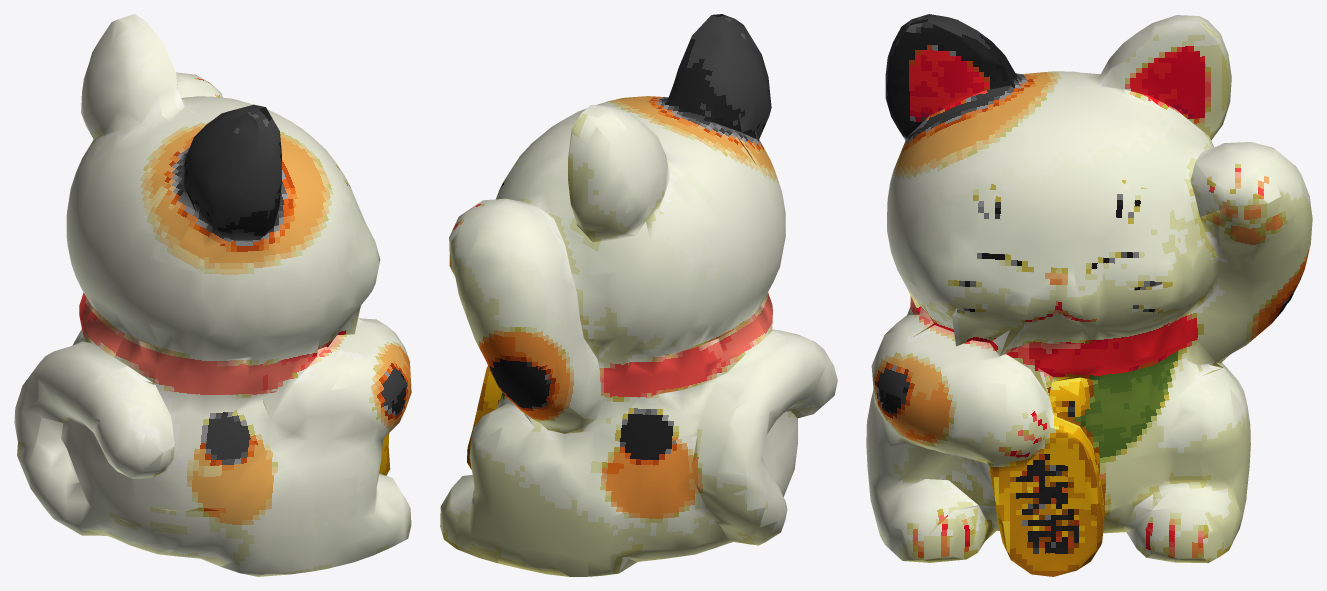
File: lucky_cat_big.glb
3 views of the same model, side by side, from view 1: azimuth 30°, elevation 25°; view 2: azimuth 150°, elevation 25°; view 3: azimuth 270°, elevation 25° (orthographic). The views are drawn at different scales.
Visible parts, largest first — view 1: mesh; view 2: mesh; view 3: mesh.
Part boxes in pixels (left/top/right/bottom): mesh: left=14, top=14, right=411, bottom=576; mesh: left=440, top=14, right=837, bottom=576; mesh: left=866, top=14, right=1312, bottom=576.
Bounding box in the file's own units: 0.3721 × 0.51 × 0.4304.
Materials: 1 (1 with a texture image).
